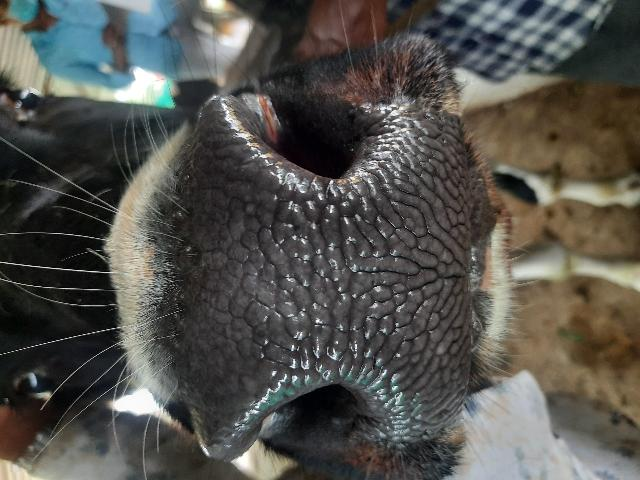Muzzle: (177, 152, 467, 392)
